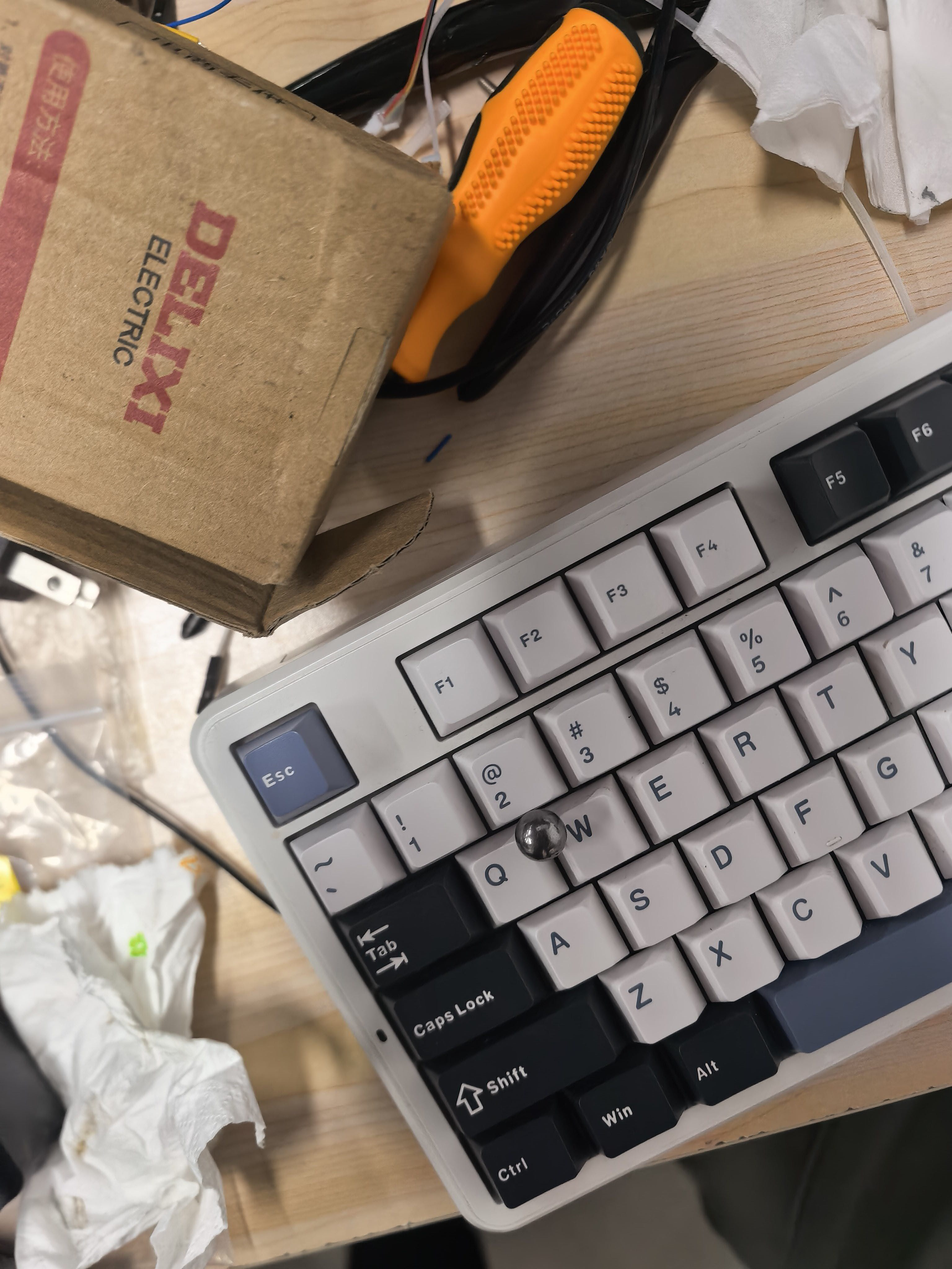ball: (513, 811, 568, 865)
